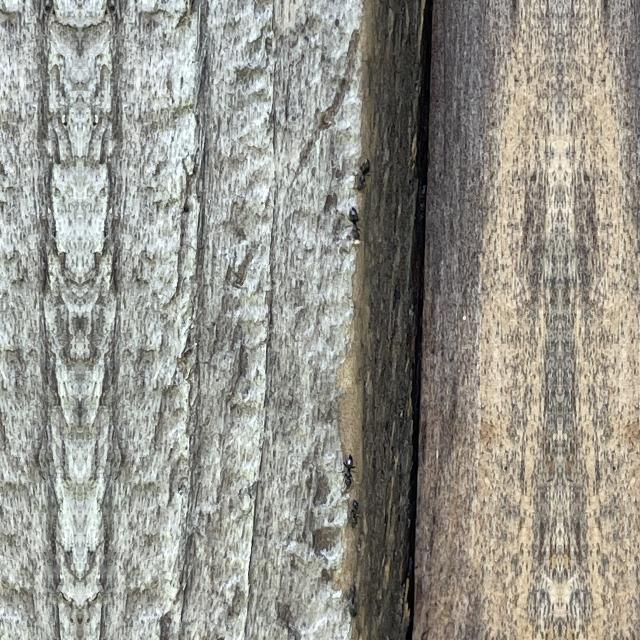Tapinoma: (343, 202, 362, 246), (353, 156, 372, 194), (339, 450, 356, 490), (344, 580, 360, 620), (348, 498, 360, 528)
